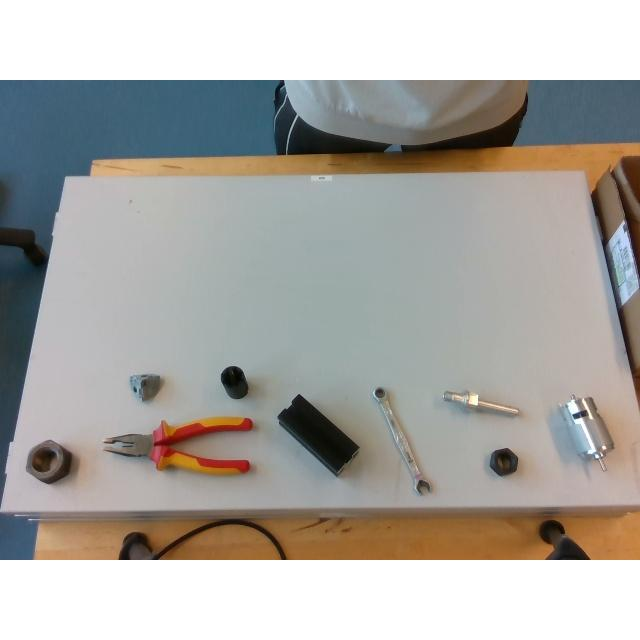M20: (489, 448, 518, 476)
M30: (26, 441, 70, 484)
Motor2: (561, 393, 613, 471)
S40_40_B: (278, 395, 358, 475)
Wrench: (370, 386, 434, 496)
